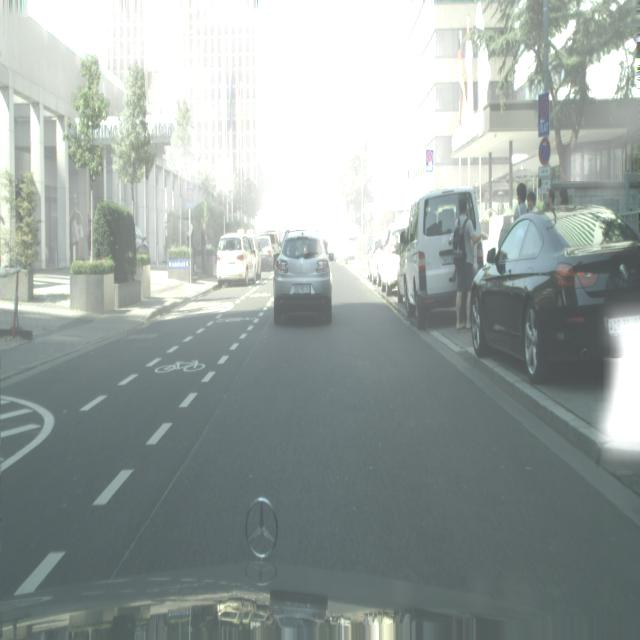person: (452, 197, 484, 331), (513, 183, 528, 221), (552, 185, 572, 210), (543, 189, 557, 224), (527, 190, 538, 213)
truck: (470, 203, 640, 382), (398, 187, 486, 328), (273, 230, 333, 326), (380, 218, 408, 299), (216, 232, 258, 285), (246, 232, 262, 282), (369, 232, 384, 285), (256, 234, 274, 272), (334, 239, 344, 261)
